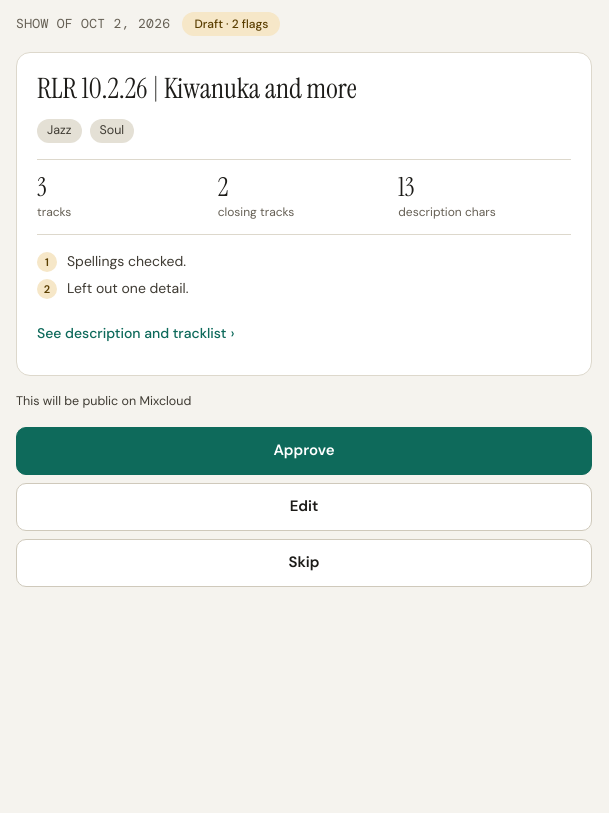
it: PackageDecision › closing-track chip uses the neutral chip class
The width and height of the screenshot is (609, 813).
Click the button "See description and tracklist ›" at [136, 333], box top-left (37, 311), bottom-right (234, 355)
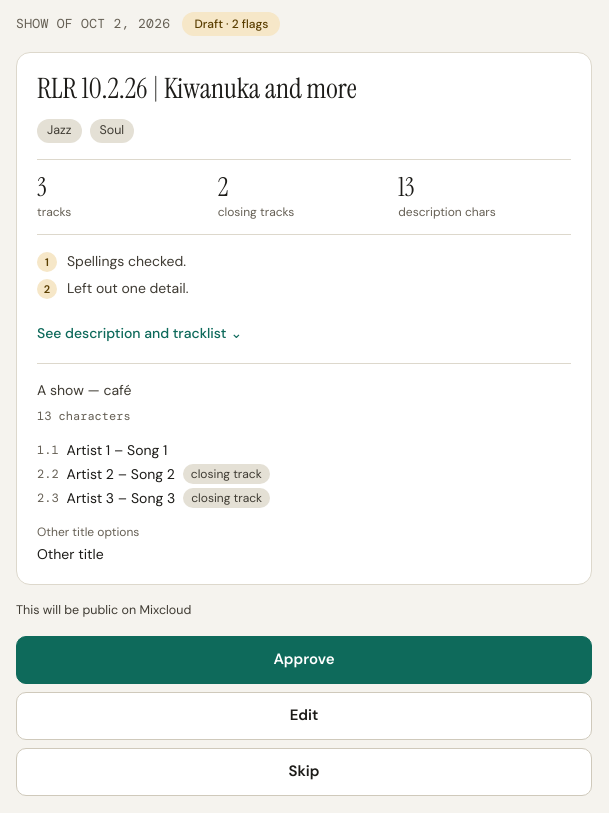
Result: the text "closing track" is shown 2 times at top-left (183, 464), bottom-right (270, 484); top-left (183, 488), bottom-right (270, 508)
Result: the text "13 characters" is shown at top-left (37, 408), bottom-right (131, 424)
Result: the list item "Other title" is shown at top-left (37, 545), bottom-right (104, 563)
